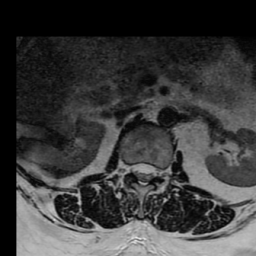CCS_normal: (139, 153, 147, 192)
LFS_normal: (155, 159, 163, 184)
LLS_normal: (147, 158, 155, 184)
RFS_normal: (123, 153, 130, 182)
RLS_normal: (130, 154, 139, 182)
